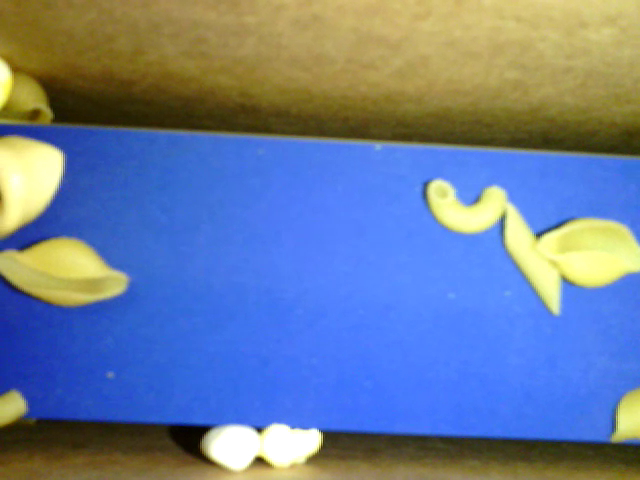elbow: (424, 177, 509, 235)
penne: (503, 201, 564, 317)
shell: (2, 235, 127, 312), (531, 216, 638, 291), (1, 71, 57, 129)
tortellini: (2, 129, 69, 240)
